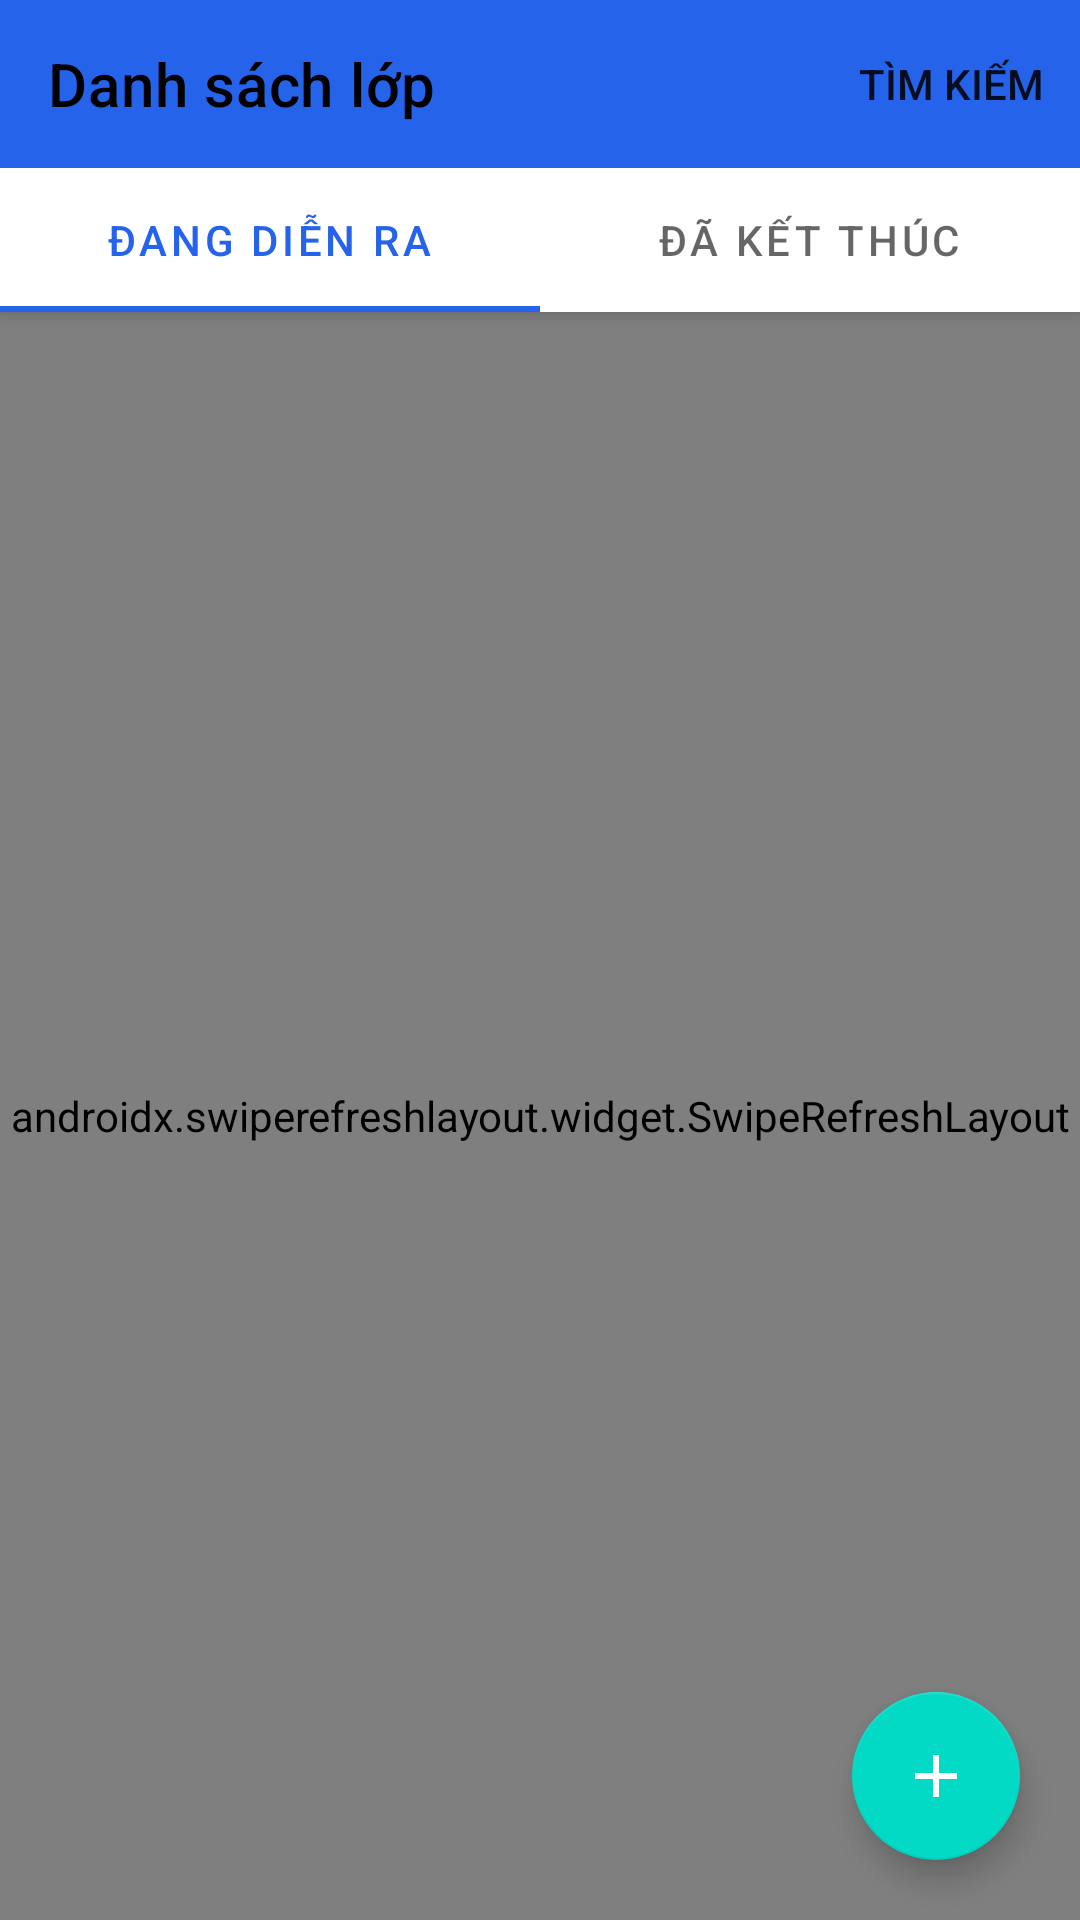

Locate icon controls on the screen. Image size 1080 x 1920, boxes as (x1, y1, x2, y2).
Thêm: (852, 1692, 1020, 1860)
